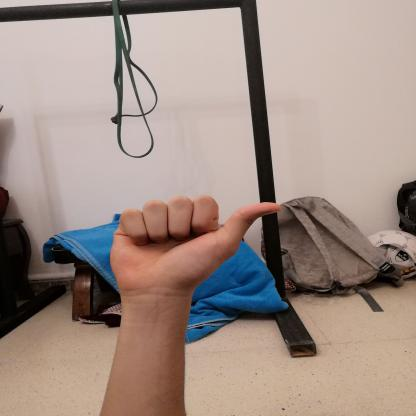DAD: (97, 188, 294, 304)
